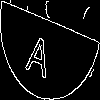A: (25, 25, 55, 79)
